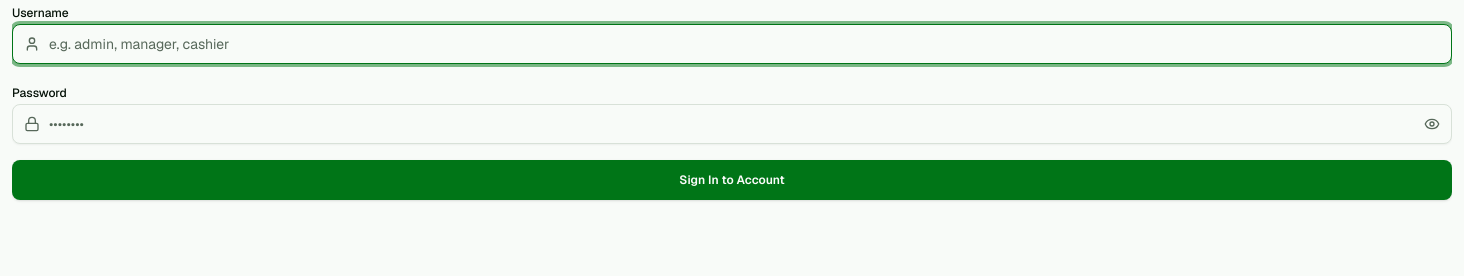
Test: LoginForm › should display error message on failed sign in
Type "test" into the field labelled "Username".
click(732, 44); type("test")  # box [12,24,1452,64]
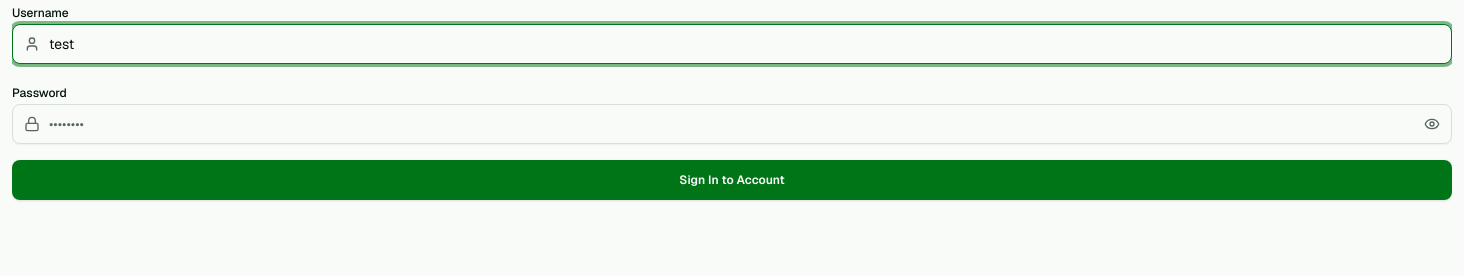
Type "password" into the password field labelled "Password".
click(732, 124); type("password")  # box [12,104,1452,144]
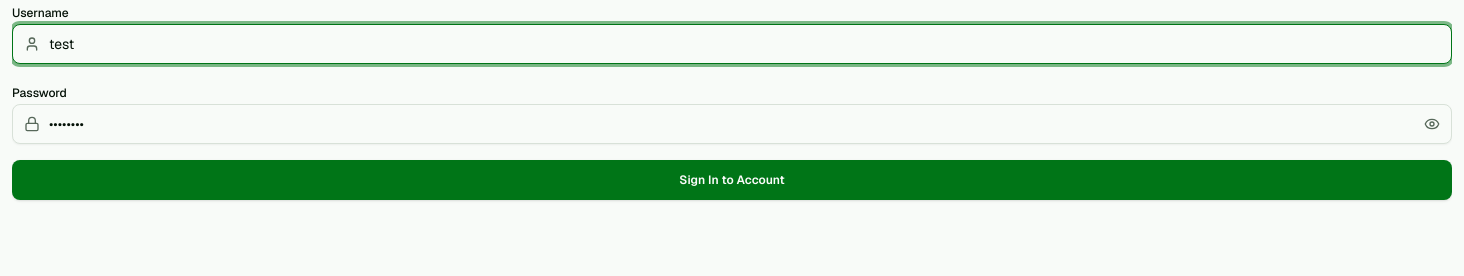
Click the button "Sign In to Account".
click(732, 180)  # box [12,160,1452,200]
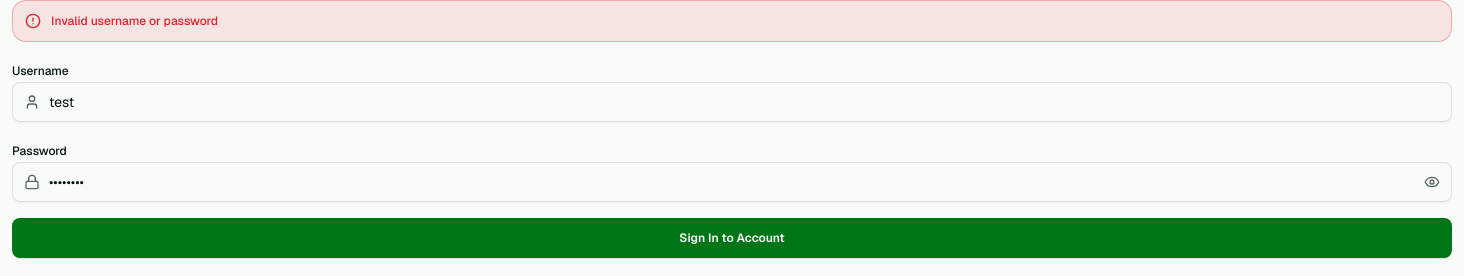
Result: the text "Invalid username or password" is shown at [51,13,218,29]
